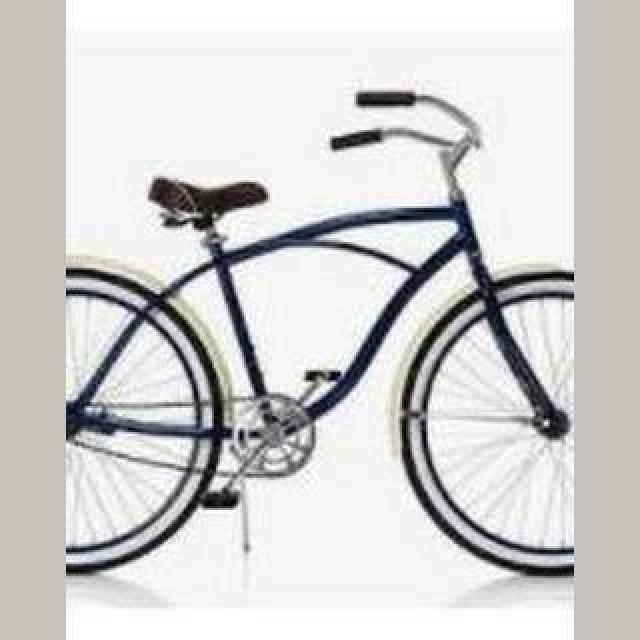Person: (66, 86, 574, 576)
